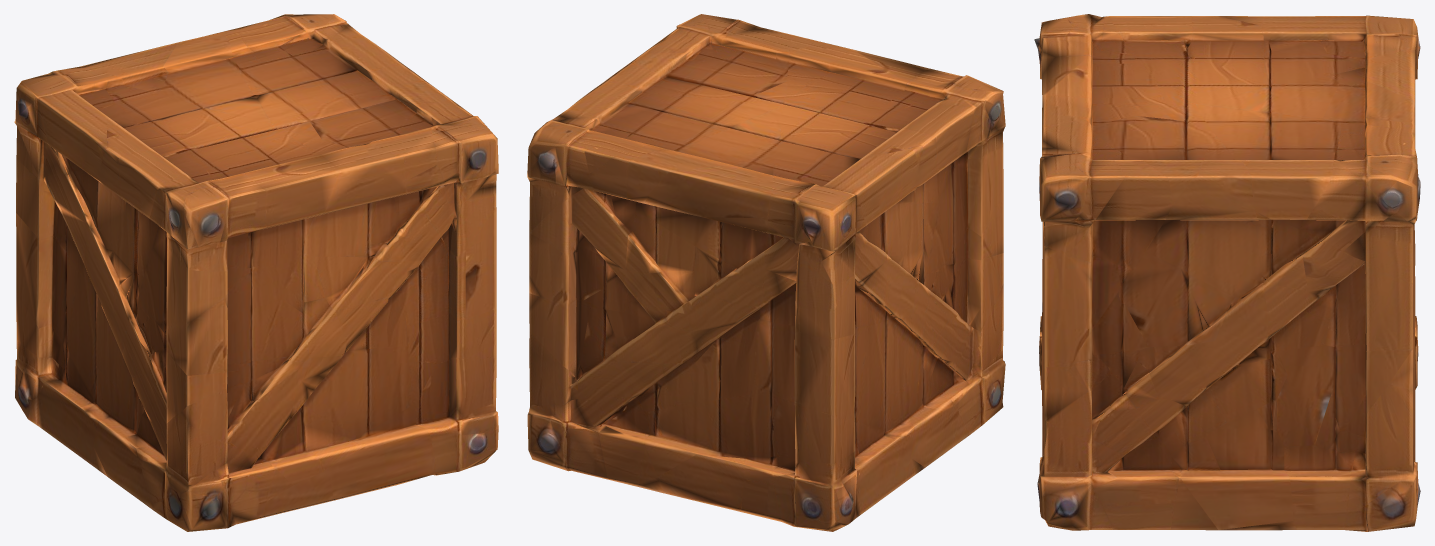
Rendered from crate.glb.
3 views of the same model, side by side, from view 1: azimuth 30°, elevation 25°; view 2: azimuth 150°, elevation 25°; view 3: azimuth 270°, elevation 25° (orthographic). The views are drawn at different scales.
Size of the model in its own units: 1.9 by 1.9 by 1.86.
1 material, 1 textured.
